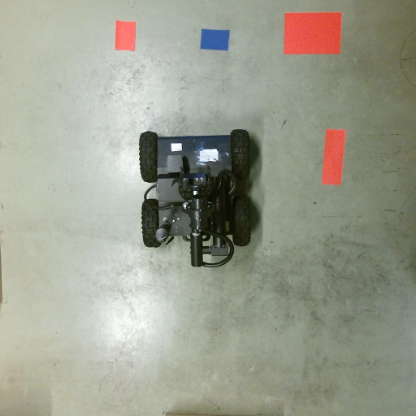Blue: (199, 29, 230, 52)
Jaguar: (136, 126, 253, 274)
Red: (282, 12, 343, 56), (322, 126, 344, 188), (114, 19, 137, 52)
